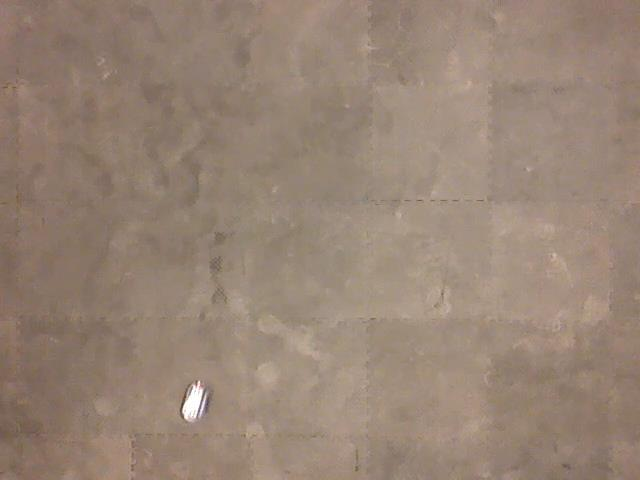Agent: (178, 378, 211, 425)
